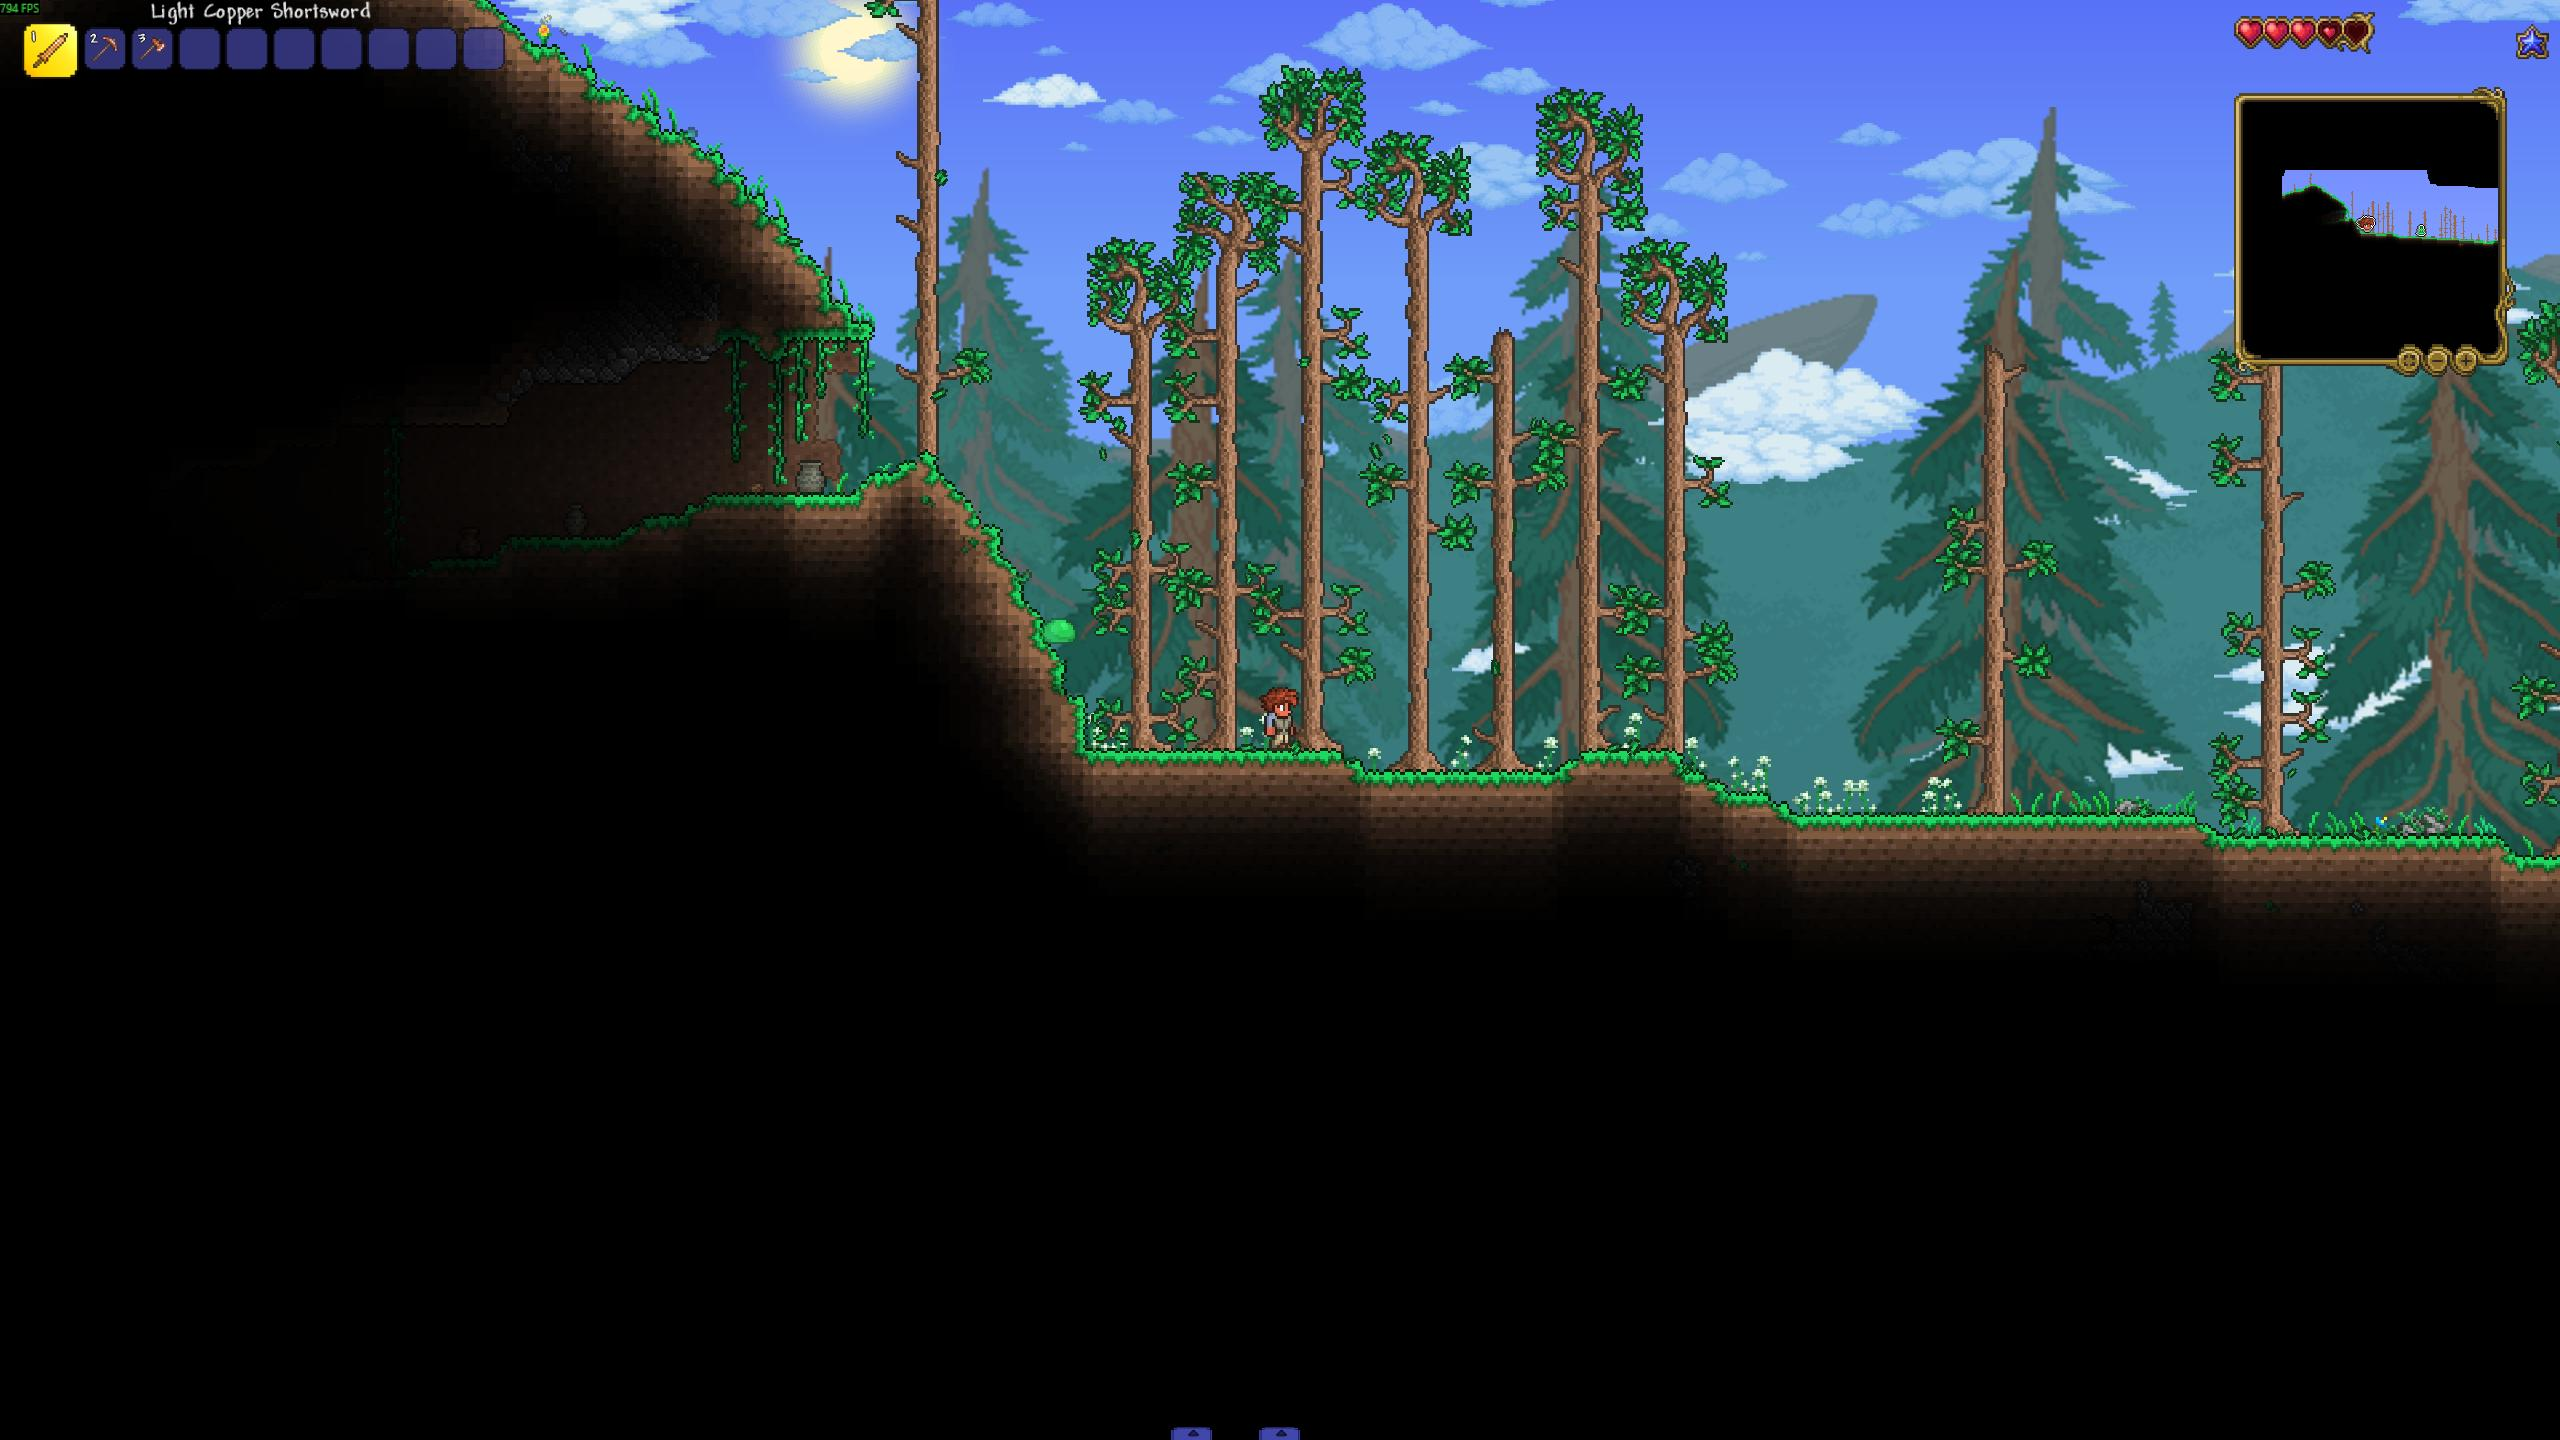Green Slime: (1041, 615, 1078, 645)
